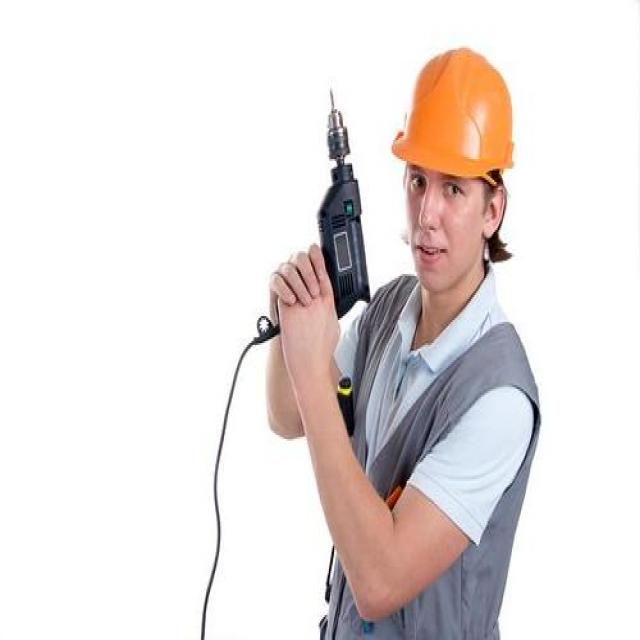Safety-Helmet: (391, 40, 518, 186)
